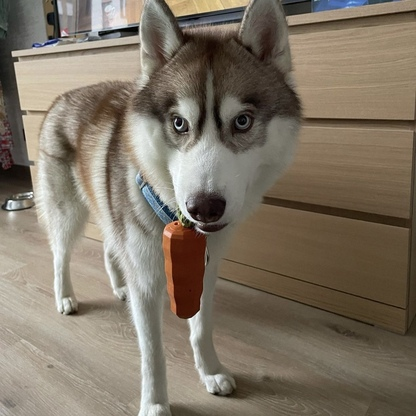husky: (28, 1, 312, 416)
